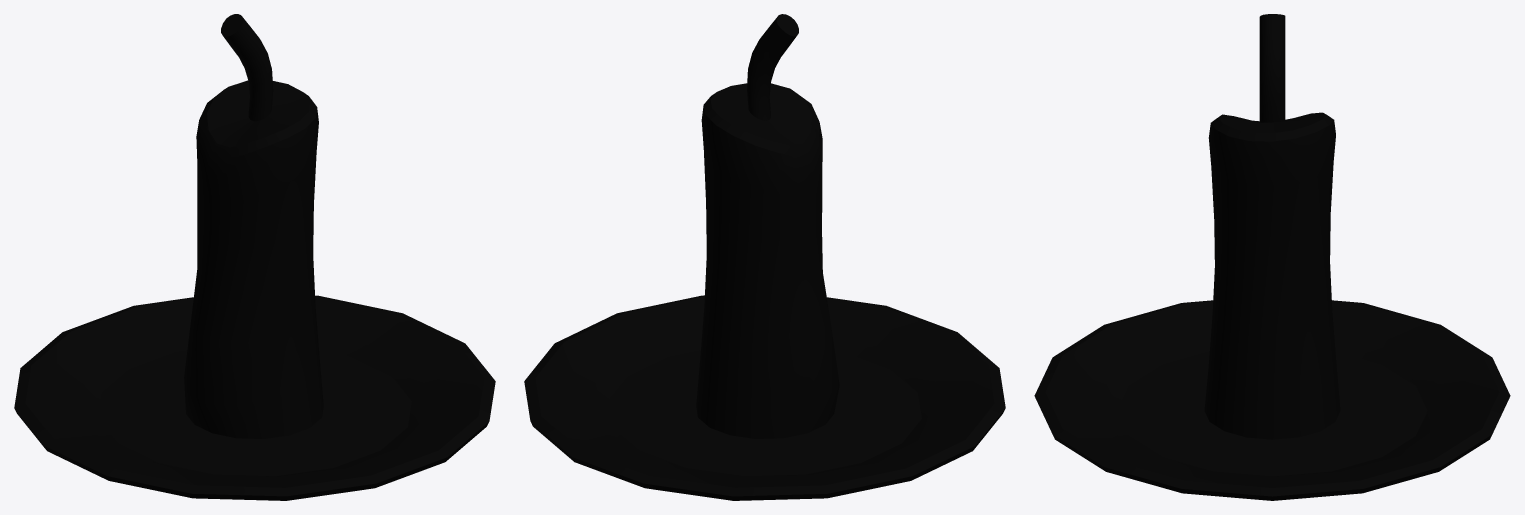
Rendered from candle.fbx.
3 renders of one model, left to right at view 1: azimuth 30°, elevation 25°; view 2: azimuth 150°, elevation 25°; view 3: azimuth 270°, elevation 25°, orthographic. The views are drawn at different scales.
Visible parts, largest first — view 1: Cylinder; view 2: Cylinder; view 3: Cylinder.
Boxes of the visible parts, box(x1,y1,x2,y2) form: Cylinder: box(14, 14, 495, 500); Cylinder: box(524, 14, 1005, 500); Cylinder: box(1034, 14, 1510, 500).
Size of the model in its own units: 30.88 by 28.29 by 30.88.
